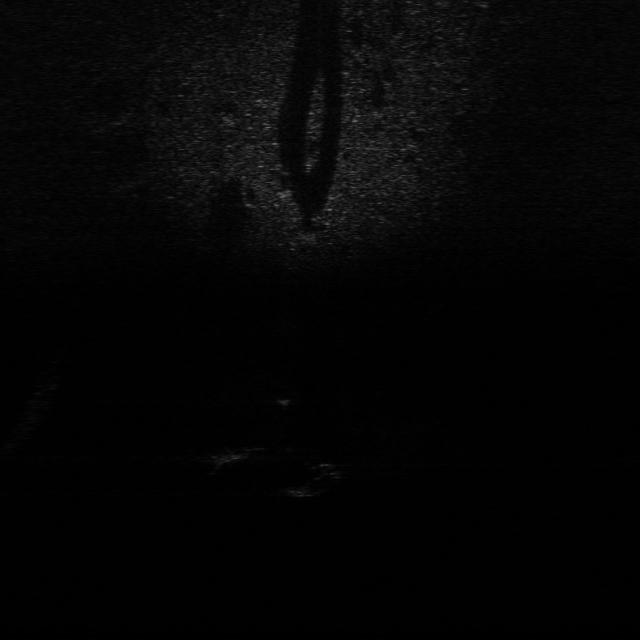ball: (268, 383, 298, 408)
square cage: (200, 442, 260, 470)
tyre: (282, 458, 346, 499)
